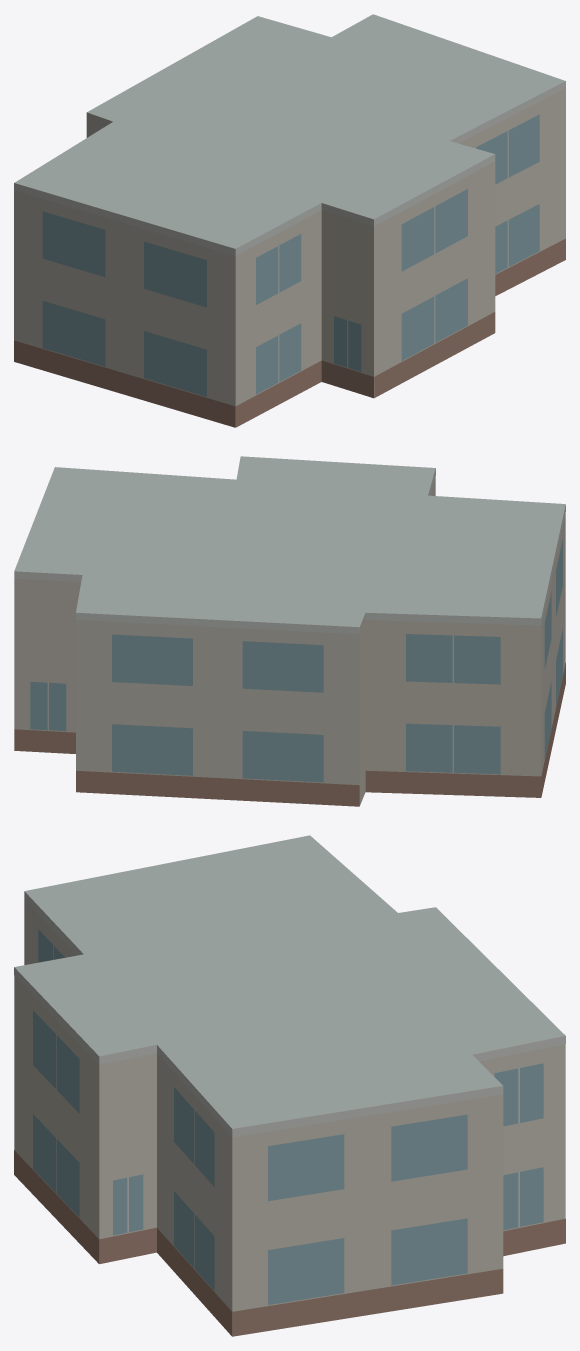
File: survey-upis-33007259.glb
3 renders of one model, top to bottom at view 1: azimuth 30°, elevation 25°; view 2: azimuth 150°, elevation 25°; view 3: azimuth 270°, elevation 25°, orthographic. The views are drawn at different scales.
Parts seen in each view (by area): view 1: survey-upis-33007259.tmp; view 2: survey-upis-33007259.tmp; view 3: survey-upis-33007259.tmp.
Part boxes in pixels (x1,y1,x2,y2): survey-upis-33007259.tmp: (14, 14, 565, 427); survey-upis-33007259.tmp: (14, 456, 565, 806); survey-upis-33007259.tmp: (14, 835, 565, 1336).
Bounding box in the file's own units: 18.51 × 6.1 × 14.69.
